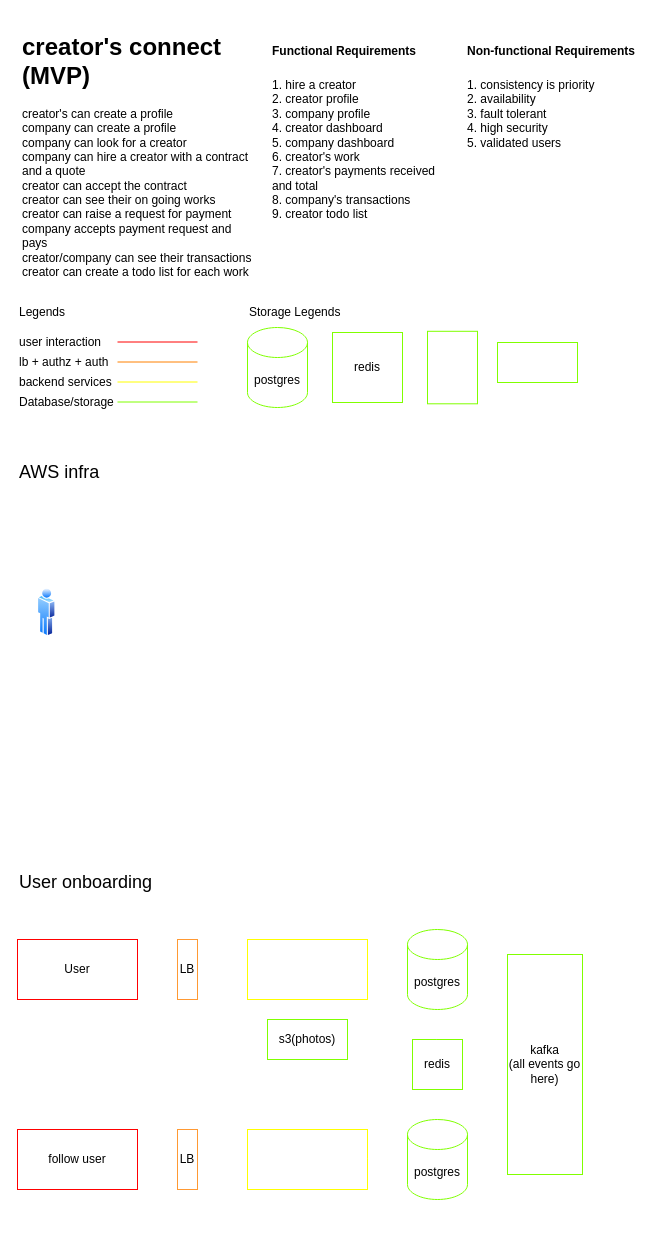
Image size: 670x1247. Some labels were removed from this diagram. Here are the shapes that lost their labels. From the top down, the centre of each, then its label:
point 452,367: kafka
point 537,362: s3
point 307,969: User service
point 307,1159: graphql service
